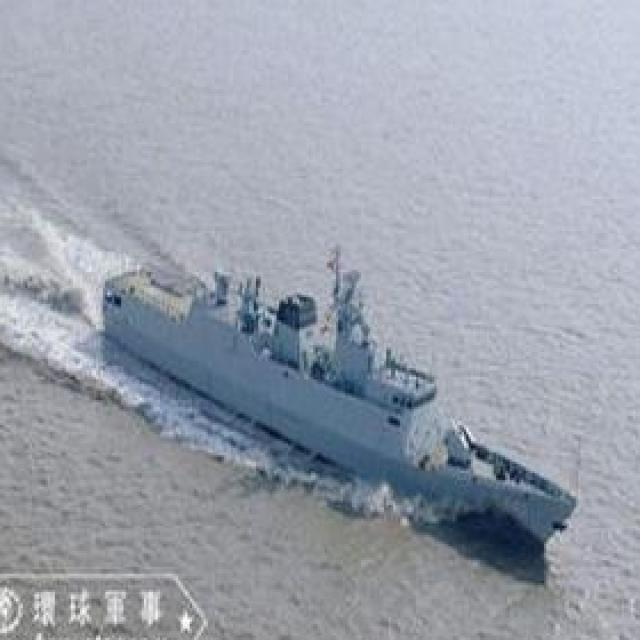navalvessels: (104, 222, 584, 546)
